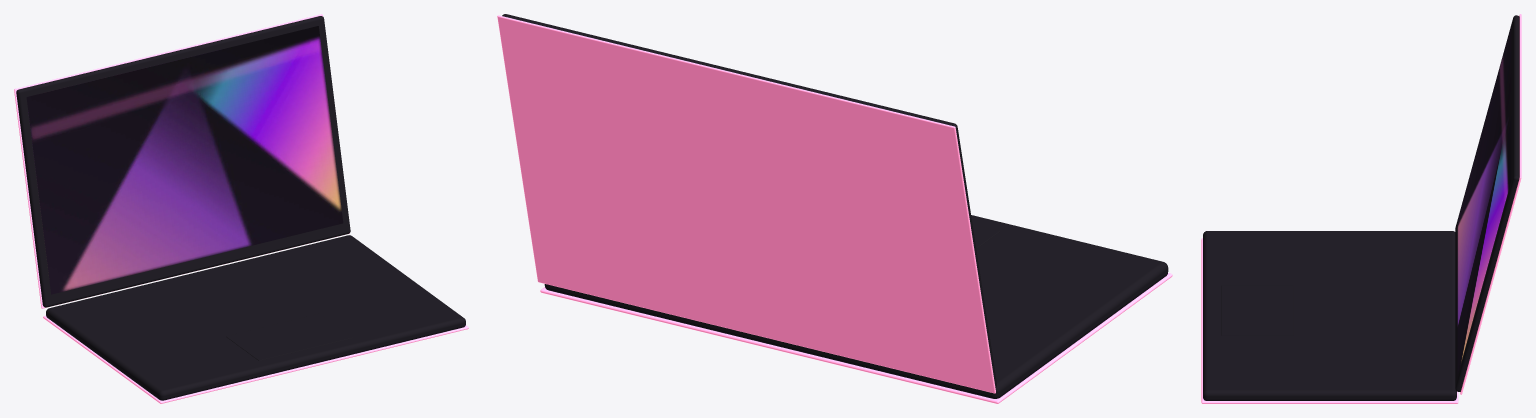
Rendered from 001-laptop.glb.
The picture shows the model from 3 angles, left to right: view 1: azimuth 30°, elevation 25°; view 2: azimuth 150°, elevation 25°; view 3: azimuth 270°, elevation 25°; orthographic projection. The views are drawn at different scales.
Parts seen in each view (by area): view 1: screen, base, lid, trackpad, base_rim, lid_rim; view 2: lid_rim, base, base_rim, lid; view 3: base, screen, lid, trackpad, base_rim, lid_rim.
Boxes of the visible parts, <box> form: screen: <box>26,26,343,294</box>; base: <box>46,235,465,400</box>; lid: <box>16,16,350,307</box>; trackpad: <box>226,313,352,360</box>; base_rim: <box>43,315,468,403</box>; lid_rim: <box>14,14,349,308</box>; lid_rim: <box>497,15,995,393</box>; base: <box>544,215,1168,398</box>; base_rim: <box>540,273,1172,403</box>; lid: <box>502,14,996,387</box>; base: <box>1203,231,1456,400</box>; screen: <box>1457,26,1511,375</box>; lid: <box>1455,15,1519,391</box>; trackpad: <box>1221,285,1293,335</box>; base_rim: <box>1201,238,1458,403</box>; lid_rim: <box>1460,14,1521,394</box>.
Size of the model in its own units: 1.71 by 1.1 by 1.41.
Materials: 3 (1 with a texture image).
